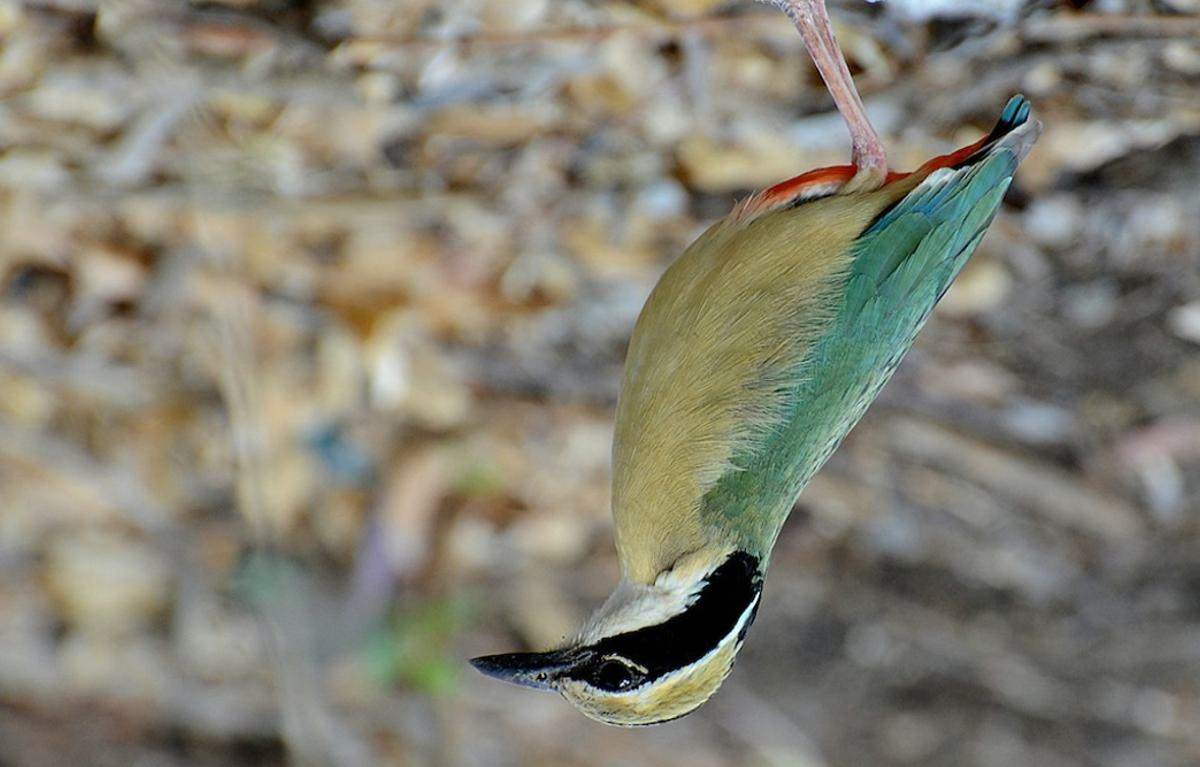pitta: (465, 104, 1041, 736)
